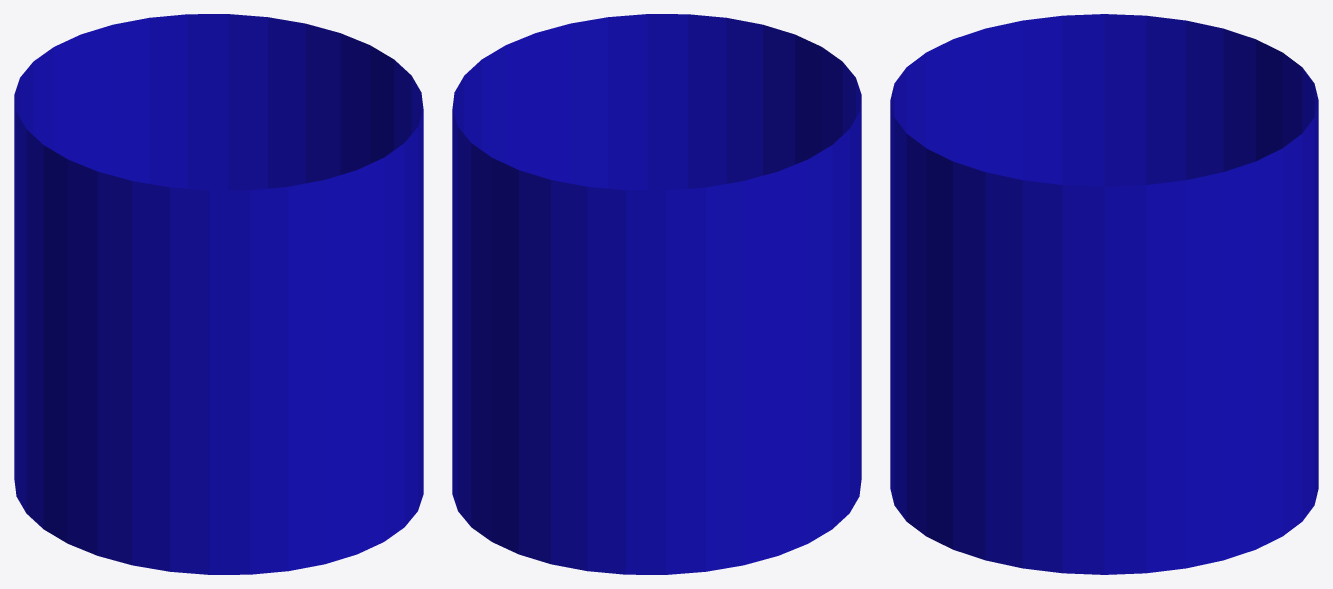
The picture shows the model from 3 angles, left to right: view 1: azimuth 30°, elevation 25°; view 2: azimuth 150°, elevation 25°; view 3: azimuth 270°, elevation 25°; orthographic projection.
Visible parts, largest first — view 1: Cylinder; view 2: Cylinder; view 3: Cylinder.
Boxes of the visible parts, bbox=[...] form: Cylinder: bbox=[14, 14, 423, 574]; Cylinder: bbox=[452, 14, 861, 574]; Cylinder: bbox=[890, 14, 1318, 574].
Size of the model in its own units: 191 by 200 by 200.
